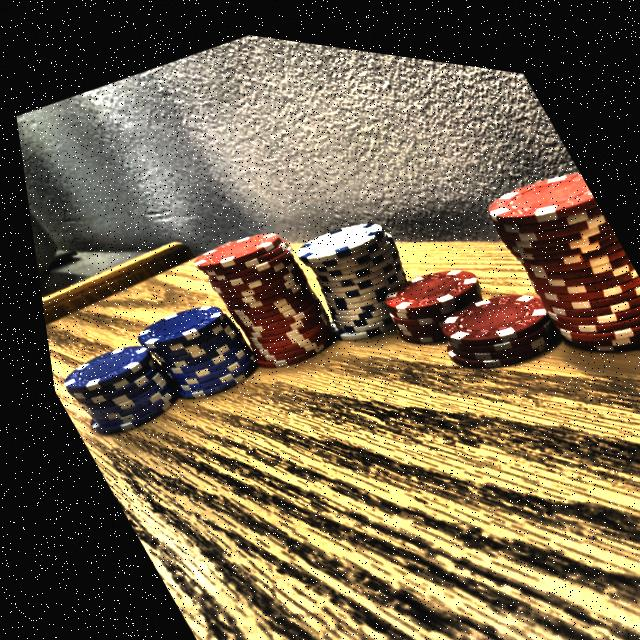Chip: (437, 112, 640, 391), (164, 195, 345, 395), (262, 182, 438, 364), (402, 236, 570, 391), (35, 319, 178, 456), (354, 228, 500, 359), (115, 282, 253, 418)
